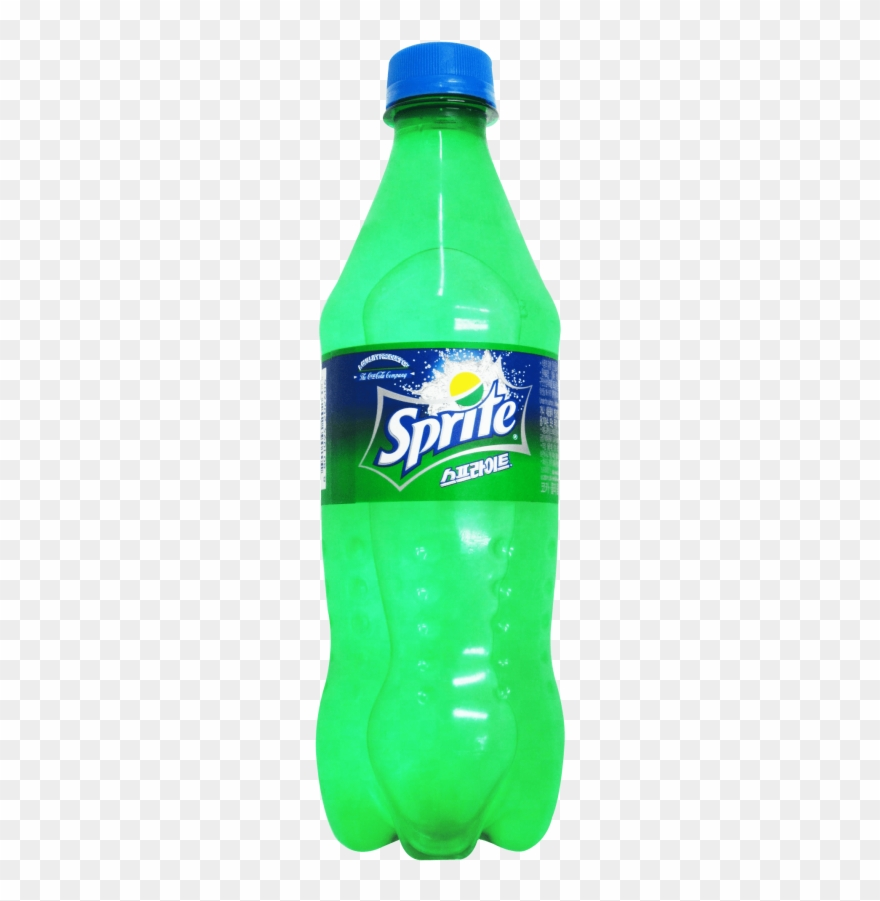sprite_bottle: (318, 40, 565, 859)
